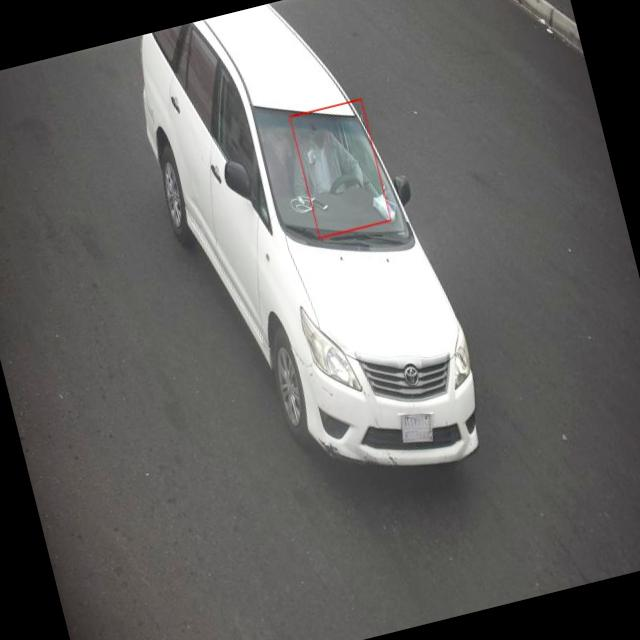person_without_seatbelt: (292, 102, 382, 232)
